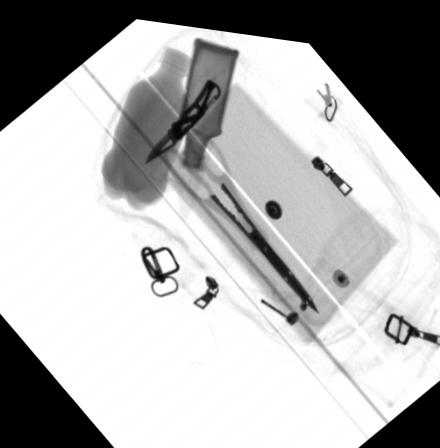Knife: (143, 72, 221, 161)
Scissors: (150, 121, 320, 305)
